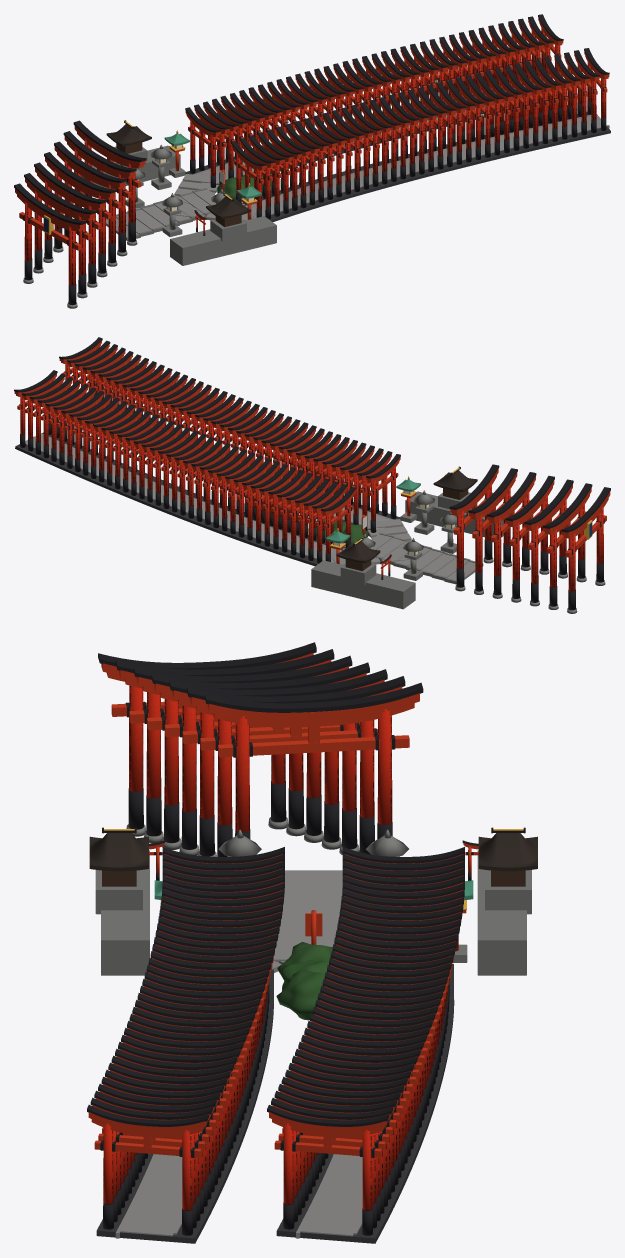
The model's file is Asset_10_Senbon_Torii_Twin_Tunnels_Full.fbx.
3 renders of one model, top to bottom at view 1: azimuth 30°, elevation 25°; view 2: azimuth 150°, elevation 25°; view 3: azimuth 270°, elevation 25°, orthographic. The views are drawn at different scales.
Parts seen in each view (by area): view 1: Z04_RetainingWall_-1, Z04_RetainingWall_1, Z04_Otsuka_Roof_-1, Z04_Otsuka_Roof_1, Z04_Otsuka_Base_-1, Z04_Approach_Torii_06_Kasagi_BlackCap, Z04_Approach_Torii_05_Kasagi_BlackCap, Z04_Approach_Torii_01_Kasagi_BlackCap, Z04_Approach_Torii_00_Kasagi_BlackCap, Z04_Approach_Torii_03_Kasagi_BlackCap, Z04_Approach_Torii_02_Kasagi_BlackCap, Z04_Approach_Torii_04_Kasagi_BlackCap (+1 smaller); view 2: Z04_RetainingWall_1, Z04_RetainingWall_-1, Z04_Otsuka_Roof_1, Z04_Otsuka_Roof_-1, Z04_Otsuka_Base_1, Z04_Approach_Torii_01_Kasagi_BlackCap, Z04_Approach_Torii_04_Kasagi_BlackCap, Z04_Approach_Torii_06_Kasagi_BlackCap, Z04_Approach_Torii_02_Kasagi_BlackCap, Z04_Approach_Torii_03_Kasagi_BlackCap, Z04_Approach_Torii_00_Kasagi_BlackCap, Z04_Approach_Torii_05_Kasagi_BlackCap (+5 smaller); view 3: Z04_RetainingWall_1, Z04_RetainingWall_-1, Z04_Approach_Torii_06_Kasagi_BlackCap, Z04_Otsuka_Roof_-1, Z04_Otsuka_Roof_1, Z04_Approach_Torii_06_Nuki, Z04_Approach_Torii_06_Kasagi_Body, Z04_Approach_Torii_04_Kasagi_BlackCap, Z04_Approach_Torii_01_Kasagi_BlackCap, Z04_Approach_Torii_00_Kasagi_BlackCap, Z04_Approach_Torii_05_Kasagi_BlackCap, Z04_Approach_Torii_03_Kasagi_BlackCap (+99 smaller).
Part boxes in pixels (x1,y1,x2,y2): Z04_RetainingWall_-1: (170,216,276,265); Z04_RetainingWall_1: (74,145,180,193); Z04_Otsuka_Roof_-1: (206,197,251,218); Z04_Otsuka_Roof_1: (106,124,151,146); Z04_Otsuka_Base_-1: (210,219,246,241); Z04_Approach_Torii_06_Kasagi_BlackCap: (73,120,146,162); Z04_Approach_Torii_05_Kasagi_BlackCap: (63,131,136,172); Z04_Approach_Torii_01_Kasagi_BlackCap: (24,173,96,214); Z04_Approach_Torii_00_Kasagi_BlackCap: (14,183,86,224); Z04_Approach_Torii_03_Kasagi_BlackCap: (44,152,116,193); Z04_Approach_Torii_02_Kasagi_BlackCap: (34,162,106,203); Z04_Approach_Torii_04_Kasagi_BlackCap: (54,141,126,183); Z04_RetainingWall_1: (311,560,415,609); Z04_RetainingWall_-1: (405,491,503,537); Z04_Otsuka_Roof_1: (336,541,380,563); Z04_Otsuka_Roof_-1: (433,470,477,491); Z04_Otsuka_Base_1: (340,563,376,585); Z04_Approach_Torii_01_Kasagi_BlackCap: (542,483,592,528); Z04_Approach_Torii_04_Kasagi_BlackCap: (487,472,536,517); Z04_Approach_Torii_06_Kasagi_BlackCap: (449,464,499,509); Z04_Approach_Torii_02_Kasagi_BlackCap: (524,479,573,524); Z04_Approach_Torii_03_Kasagi_BlackCap: (505,475,554,521); Z04_Approach_Torii_00_Kasagi_BlackCap: (561,487,610,532); Z04_Approach_Torii_05_Kasagi_BlackCap: (468,468,517,513); Z04_RetainingWall_1: (477,850,526,975); Z04_RetainingWall_-1: (101,850,149,975); Z04_Approach_Torii_06_Kasagi_BlackCap: (204,682,423,712); Z04_Otsuka_Roof_-1: (89,833,148,871); Z04_Otsuka_Roof_1: (478,833,537,871); Z04_Approach_Torii_06_Nuki: (218,735,409,757); Z04_Approach_Torii_06_Kasagi_Body: (207,693,419,721); Z04_Approach_Torii_04_Kasagi_BlackCap: (169,669,387,696); Z04_Approach_Torii_01_Kasagi_BlackCap: (115,649,334,676); Z04_Approach_Torii_00_Kasagi_BlackCap: (98,642,316,669); Z04_Approach_Torii_05_Kasagi_BlackCap: (186,676,405,703); Z04_Approach_Torii_03_Kasagi_BlackCap: (151,662,369,689).
Bounding box in the file's own units: 3033 × 606 × 1102.
15 materials, 2 textured.
